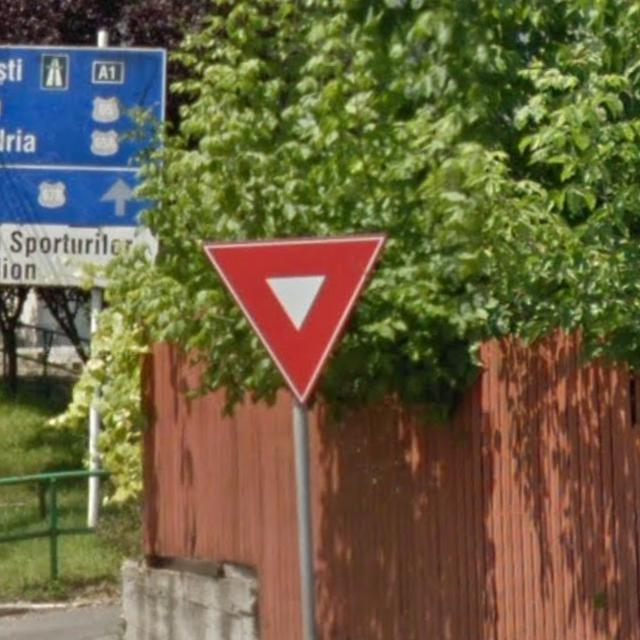prio_give_way: (198, 236, 377, 401)
